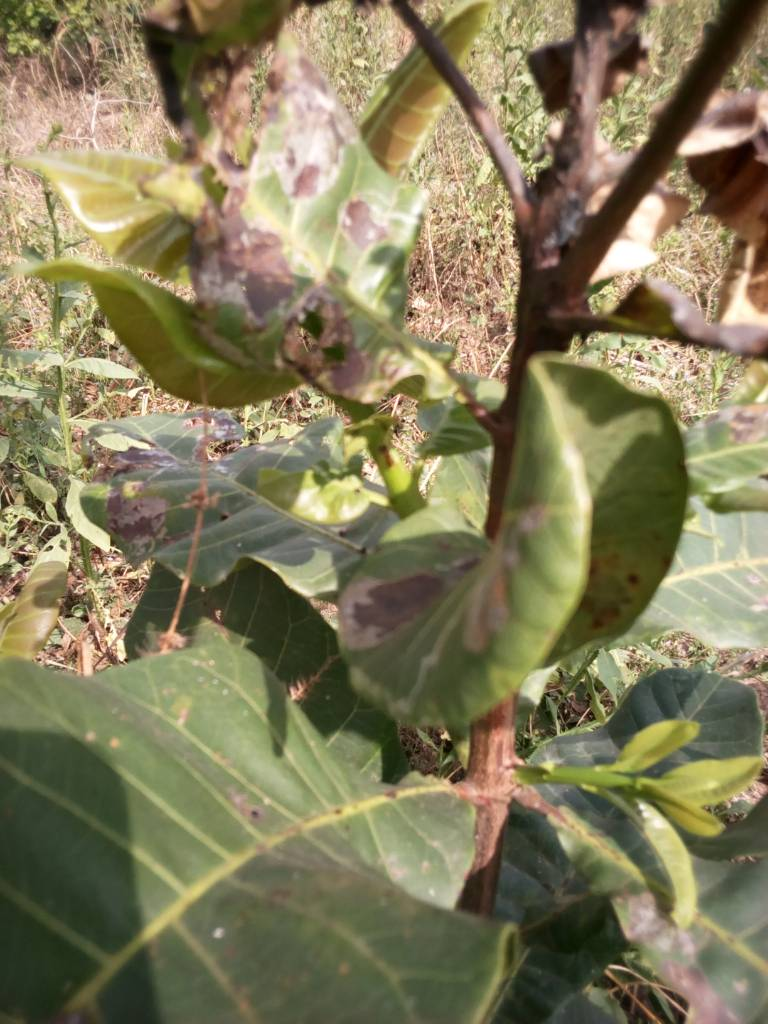Dysdercus wolkerii: (318, 349, 701, 744)
